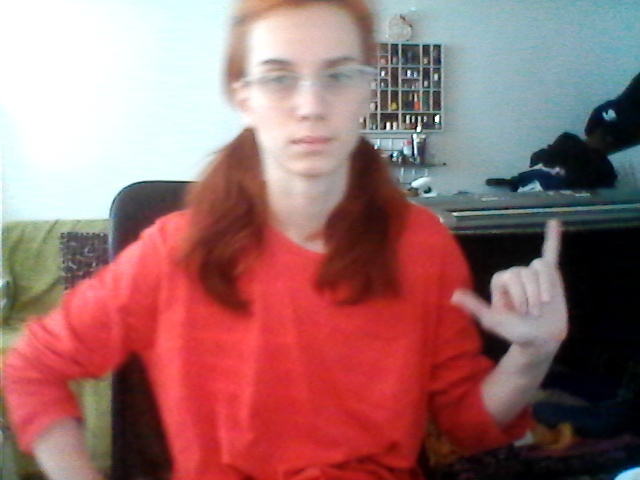kto: (450, 219, 584, 352)
